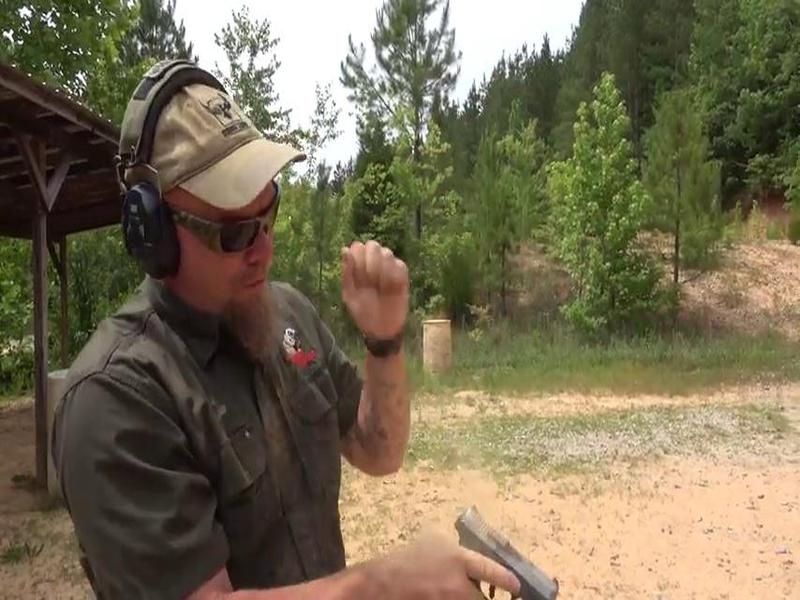Pistola: (421, 488, 566, 600)
